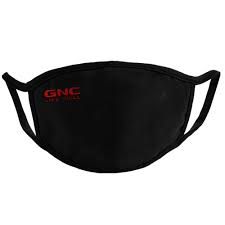cloth_mask: (1, 59, 225, 176)
